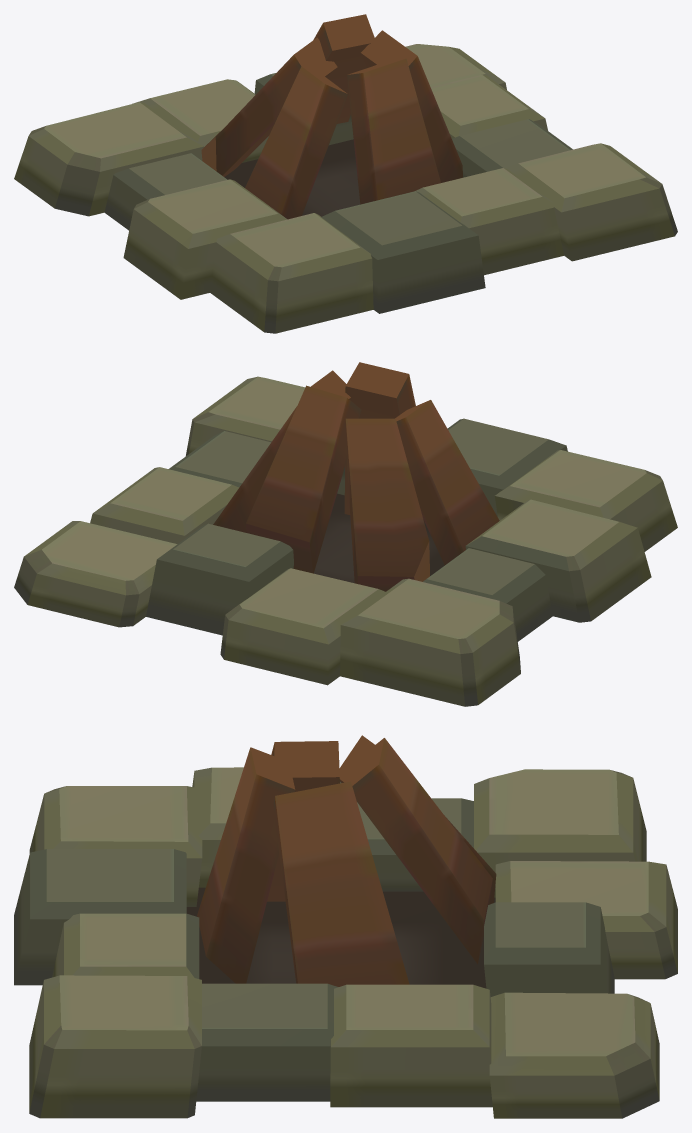
Rendered from farm_bonfire.fbx.
3 renders of one model, top to bottom at view 1: azimuth 30°, elevation 25°; view 2: azimuth 150°, elevation 25°; view 3: azimuth 270°, elevation 25°, orthographic. The views are drawn at different scales.
Visible parts, largest first — view 1: farm_bonfire; view 2: farm_bonfire; view 3: farm_bonfire.
Boxes of the visible parts, x1,y1,x2,y2 form: farm_bonfire: (14,14,677,333); farm_bonfire: (14,362,677,706); farm_bonfire: (14,735,677,1118).
Size of the model in its own units: 1.07 by 0.4251 by 1.02.
Materials: 1 (1 with a texture image).
